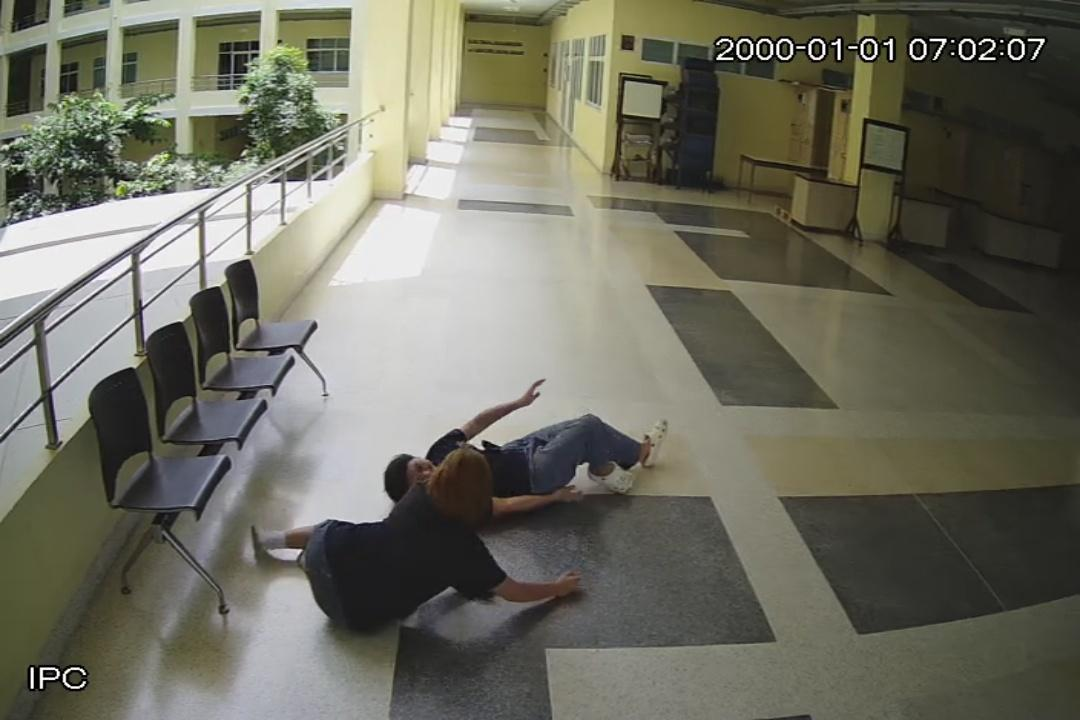fall: (250, 450, 572, 630), (388, 386, 684, 516)
